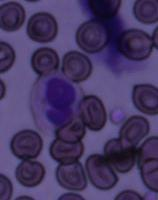N: (29, 70, 83, 129)
